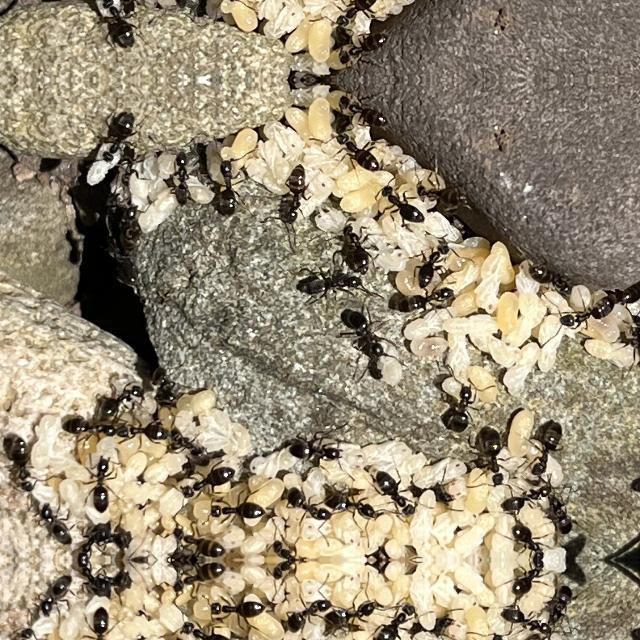Tapinoma: (168, 458, 250, 514), (270, 161, 320, 231), (204, 152, 252, 220), (470, 424, 518, 492), (287, 266, 369, 304), (98, 107, 148, 169), (326, 126, 390, 174), (368, 468, 424, 520), (166, 606, 250, 640), (369, 182, 427, 228), (98, 0, 148, 52), (333, 221, 381, 273), (526, 259, 580, 305), (96, 203, 144, 254), (408, 174, 474, 210), (106, 414, 180, 446), (284, 435, 352, 469), (406, 280, 462, 320), (336, 28, 394, 66), (326, 0, 390, 34), (278, 486, 332, 526), (368, 600, 422, 640), (278, 594, 332, 634), (336, 95, 394, 132), (494, 482, 556, 516), (494, 604, 556, 638), (347, 306, 389, 356), (526, 416, 566, 468), (94, 376, 146, 416), (164, 528, 238, 556), (164, 564, 238, 592), (86, 456, 120, 516), (564, 289, 612, 331), (504, 520, 552, 560), (504, 560, 552, 600), (325, 491, 383, 523), (325, 597, 383, 629), (211, 494, 265, 528), (211, 592, 265, 626), (170, 424, 214, 464), (412, 238, 450, 284), (37, 498, 75, 544), (37, 576, 75, 622), (450, 382, 480, 436), (8, 432, 34, 494), (620, 300, 640, 380), (542, 490, 576, 534), (174, 142, 196, 210), (542, 586, 576, 630), (594, 276, 640, 308), (84, 604, 120, 640), (160, 366, 188, 412), (258, 537, 310, 559), (258, 561, 310, 583), (80, 521, 110, 557), (80, 563, 110, 599), (68, 411, 110, 435), (112, 140, 136, 180), (110, 0, 136, 20), (8, 624, 34, 640), (174, 0, 196, 18)
